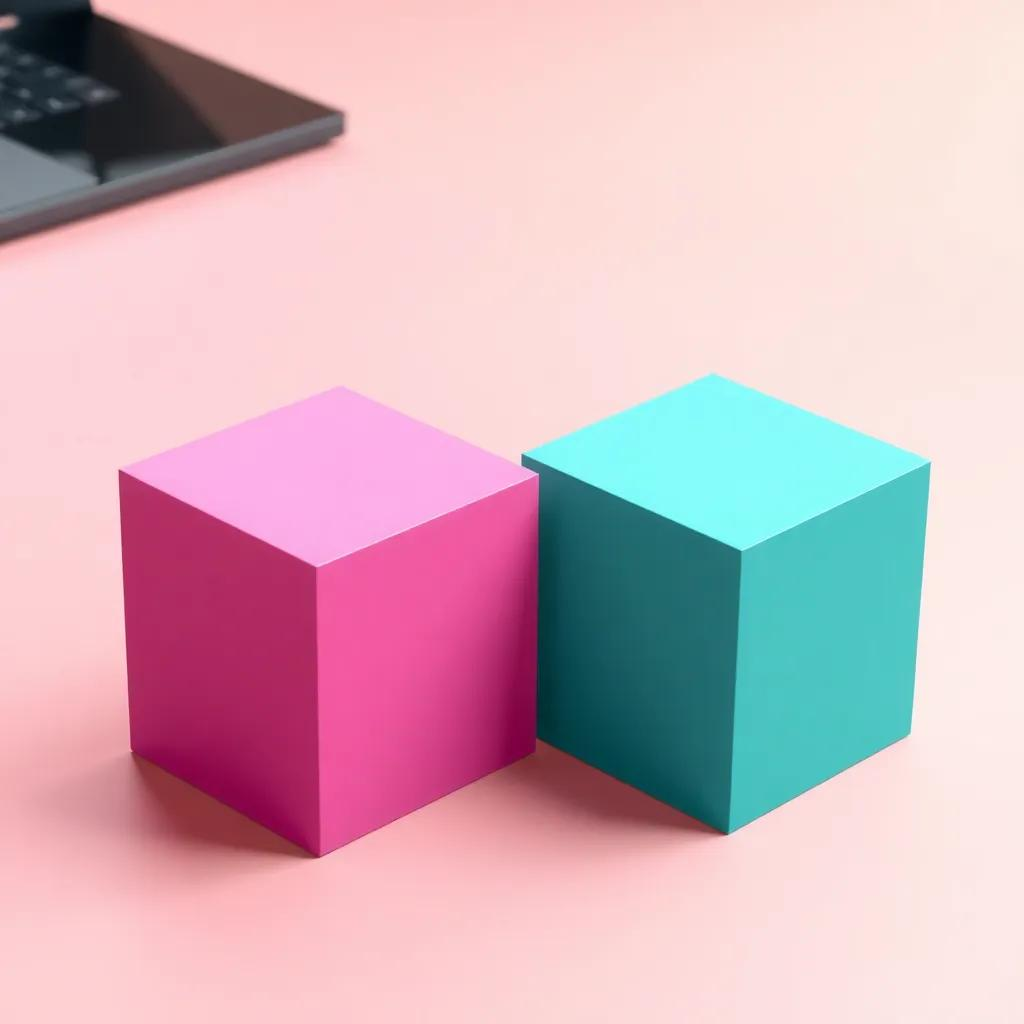cube: (116, 382, 540, 857), (519, 370, 931, 835)
